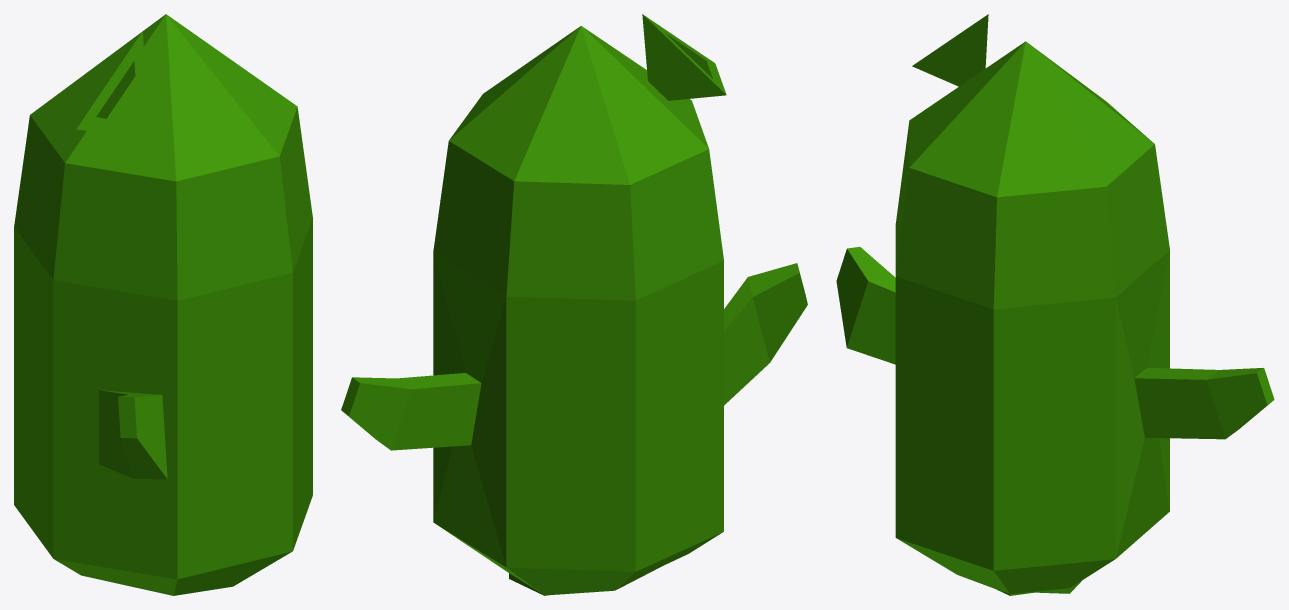
Rendered from DesertItem3.fbx.
3 renders of one model, left to right at view 1: azimuth 30°, elevation 25°; view 2: azimuth 150°, elevation 25°; view 3: azimuth 270°, elevation 25°, orthographic. The views are drawn at different scales.
Visible parts, largest first — view 1: Cube.001_Cube.000; view 2: Cube.001_Cube.000; view 3: Cube.001_Cube.000.
Part boxes in pixels (x1,y1,x2,y2): Cube.001_Cube.000: (14,14,312,595); Cube.001_Cube.000: (341,14,807,595); Cube.001_Cube.000: (836,14,1274,595).
Size of the model in its own units: 71.67 by 146 by 108.
